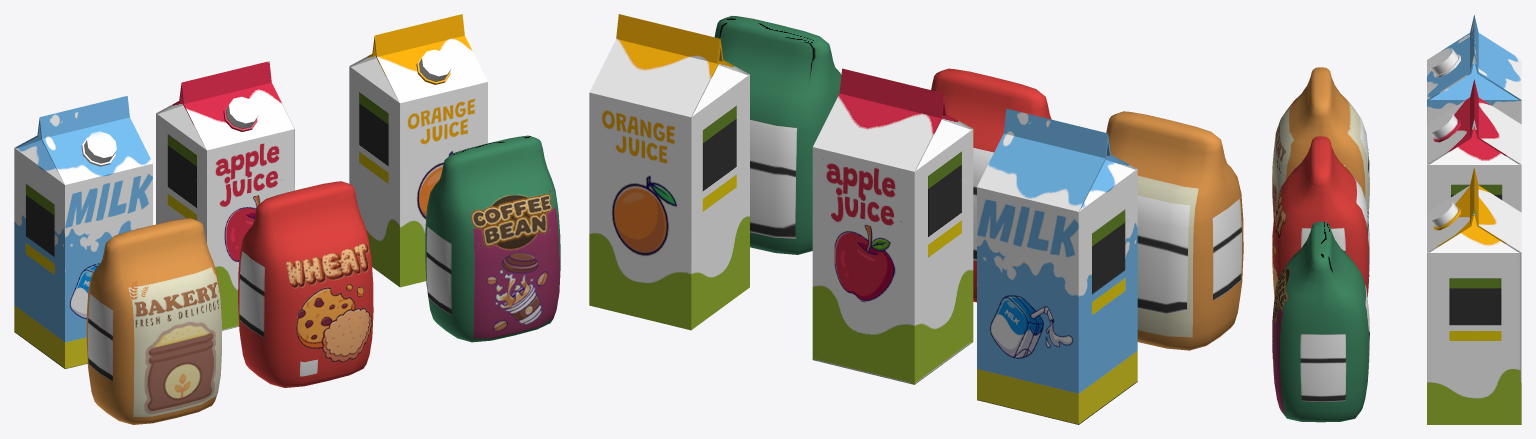
File: juice.fbx
3 views of the same model, side by side, from view 1: azimuth 30°, elevation 25°; view 2: azimuth 150°, elevation 25°; view 3: azimuth 270°, elevation 25° (orthographic). The views are drawn at different scales.
Visible parts, largest first — view 1: JuiceBrick_6ljfy3.005, JuiceBrick_6ljfy3.002, Cube.006, Cube.055, Cube.052, JuiceBrick_6ljfy3; view 2: JuiceBrick_6ljfy3, JuiceBrick_6ljfy3.005, JuiceBrick_6ljfy3.002, Cube.052, Cube.055, Cube.006; view 3: JuiceBrick_6ljfy3.002, Cube.055, JuiceBrick_6ljfy3, Cube.006, Cube.052, JuiceBrick_6ljfy3.005.
Part boxes in pixels (box(x1,y1,x2,y2)): JuiceBrick_6ljfy3.005: box(14, 96, 152, 368); JuiceBrick_6ljfy3.002: box(349, 14, 487, 287); Cube.006: box(238, 181, 373, 387); Cube.055: box(425, 135, 560, 342); Cube.052: box(86, 218, 221, 424); JuiceBrick_6ljfy3: box(156, 61, 294, 330); JuiceBrick_6ljfy3: box(812, 68, 973, 384); JuiceBrick_6ljfy3.005: box(977, 108, 1137, 424); JuiceBrick_6ljfy3.002: box(589, 14, 749, 330); Cube.052: box(1106, 111, 1243, 350); Cube.055: box(714, 16, 841, 254); Cube.006: box(931, 68, 1051, 302); JuiceBrick_6ljfy3.002: box(1427, 167, 1521, 424); Cube.055: box(1272, 221, 1369, 422); JuiceBrick_6ljfy3: box(1427, 79, 1521, 212); Cube.006: box(1272, 136, 1369, 297); Cube.052: box(1272, 67, 1369, 219); JuiceBrick_6ljfy3.005: box(1427, 15, 1521, 124).
Size of the model in its own units: 49.84 by 24.97 by 25.69.
1 material, 1 textured.
